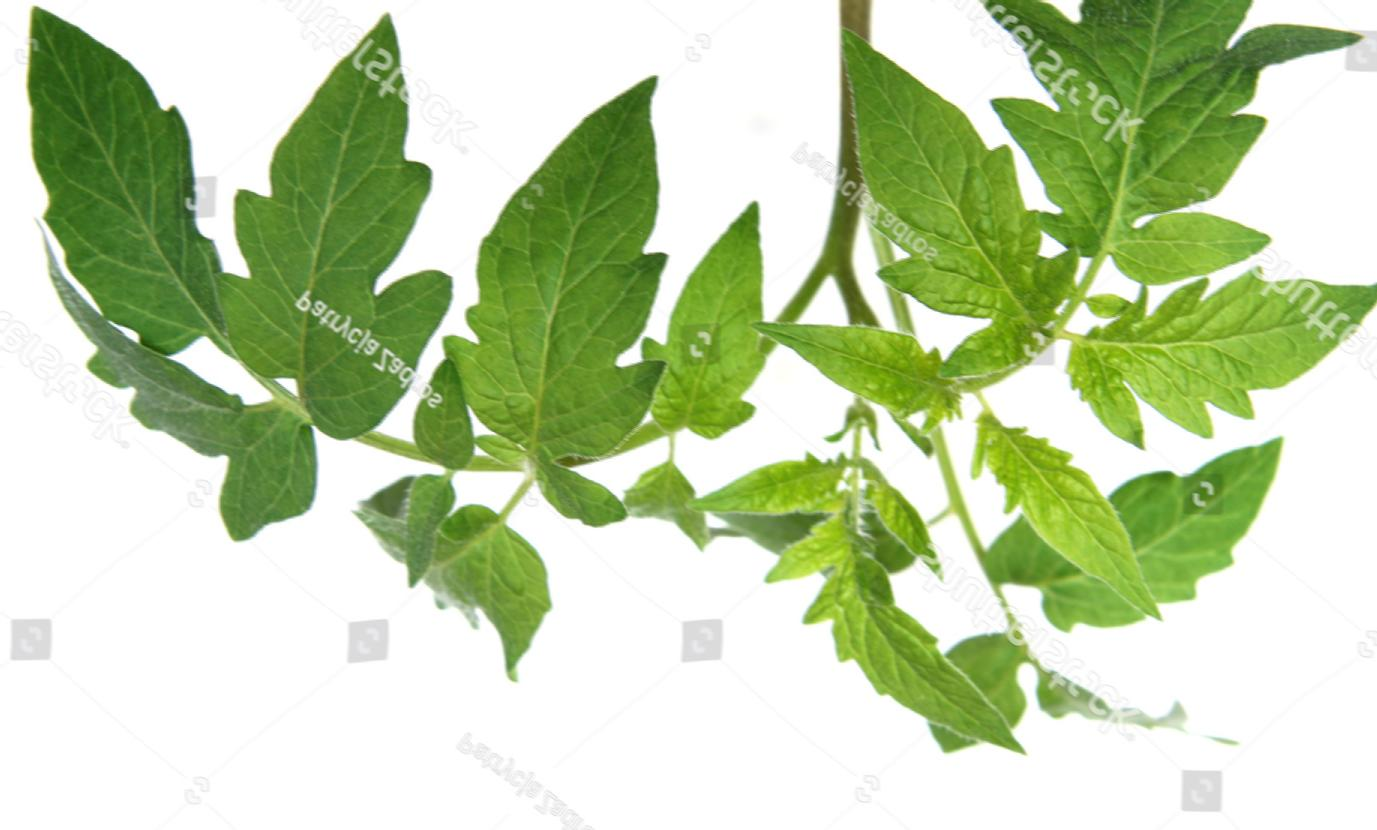Tomato leaf: (224, 0, 538, 438), (466, 31, 709, 518), (15, 0, 257, 389), (1052, 186, 1377, 464), (1025, 0, 1315, 306), (765, 411, 1004, 761), (936, 343, 1177, 650), (840, 36, 1049, 343)
